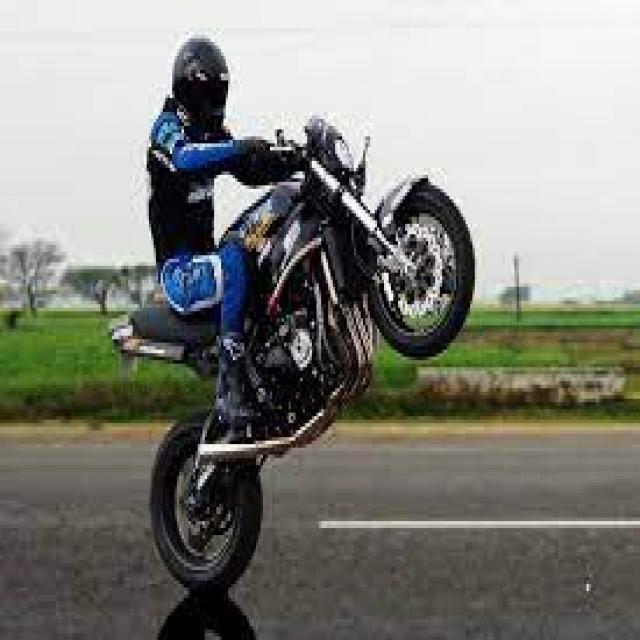Wheeling: (144, 42, 472, 594)
